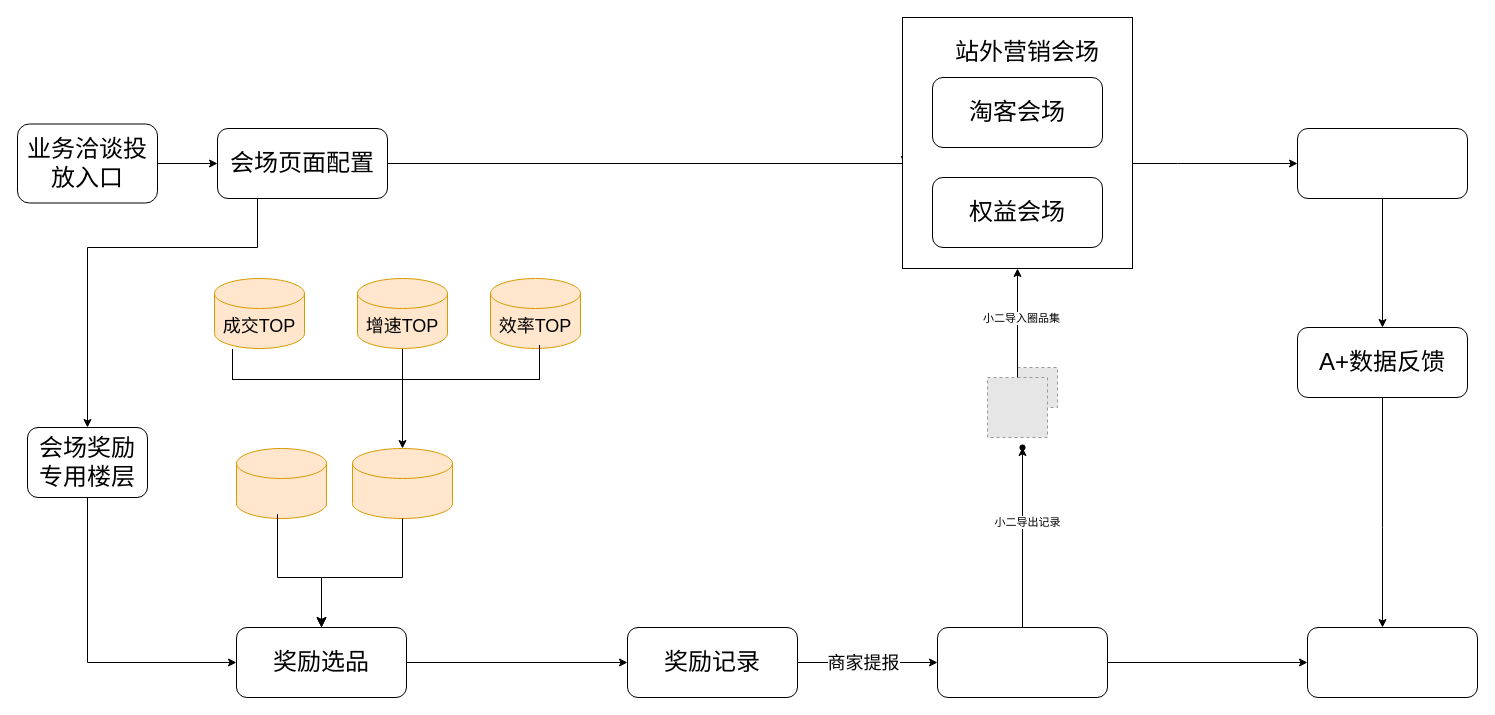
Some shapes in this 1495 by 715 pixel diagram are drawn without their labels. Grey dashed boxes stand in for pictures. Each missing label, with the centre of its shape:
供应商列表: point 402,483
品牌授权: point 281,483
提报记录: point 1022,662
效果数据: point 1392,662
用户成交: point 1382,163
